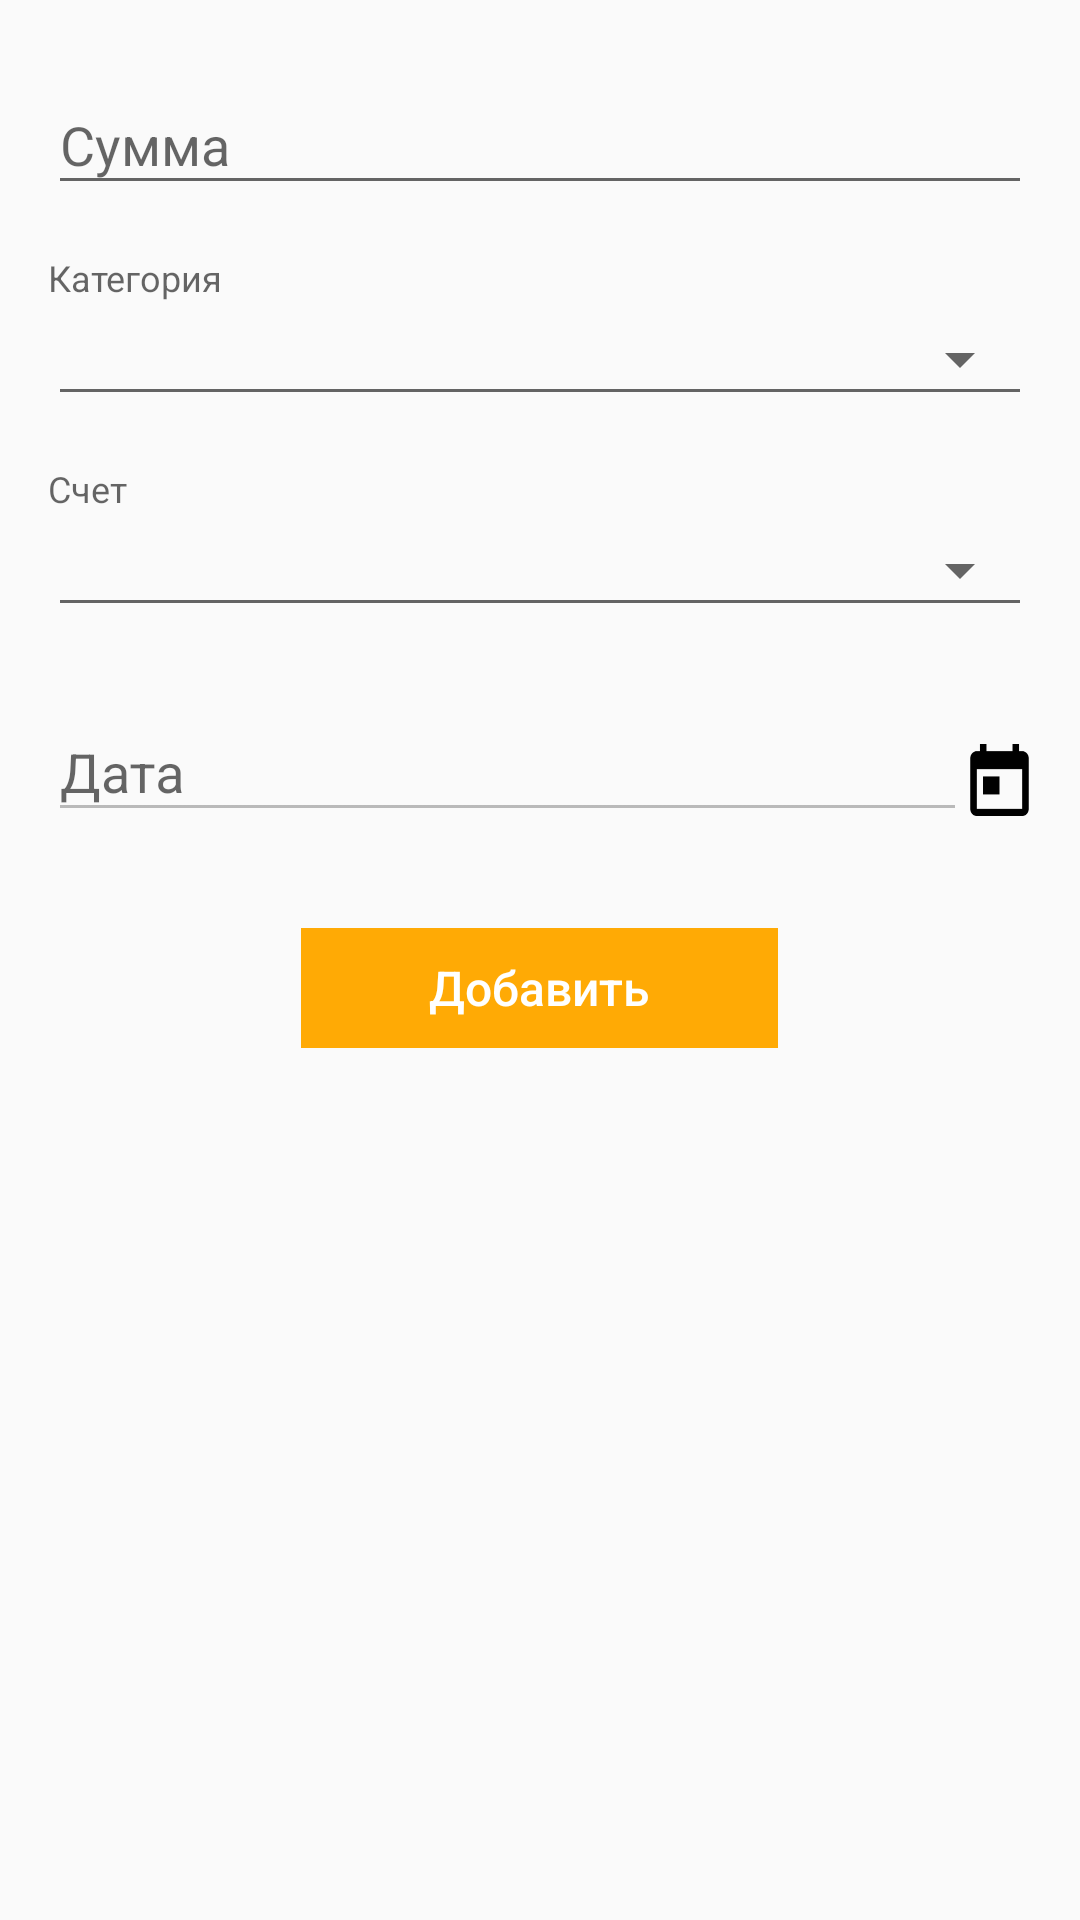

Point at icon controls on the screen. Image size 1080px x 1920px, points as (x=x, y=y).
calendar: (x=999, y=780)
